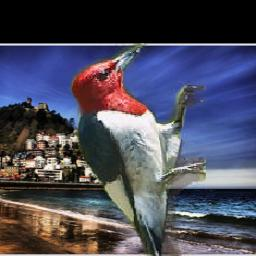Woodpecker: (69, 44, 206, 256)
